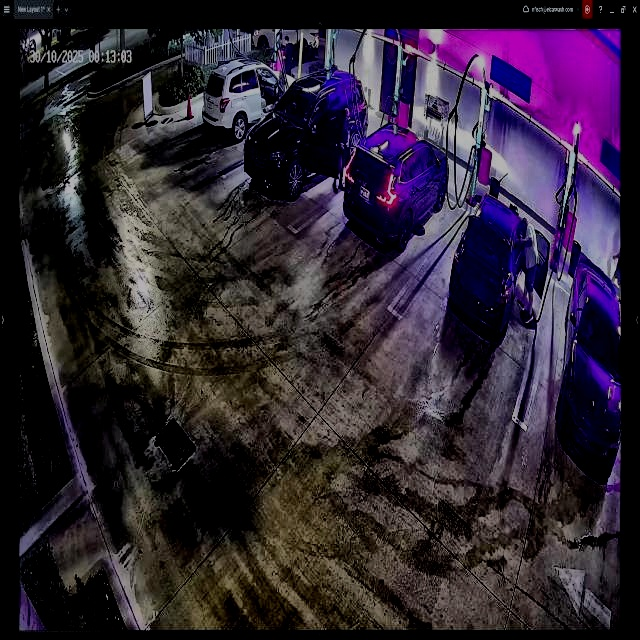Car: (448, 190, 548, 343), (248, 71, 368, 195), (344, 121, 450, 249)
